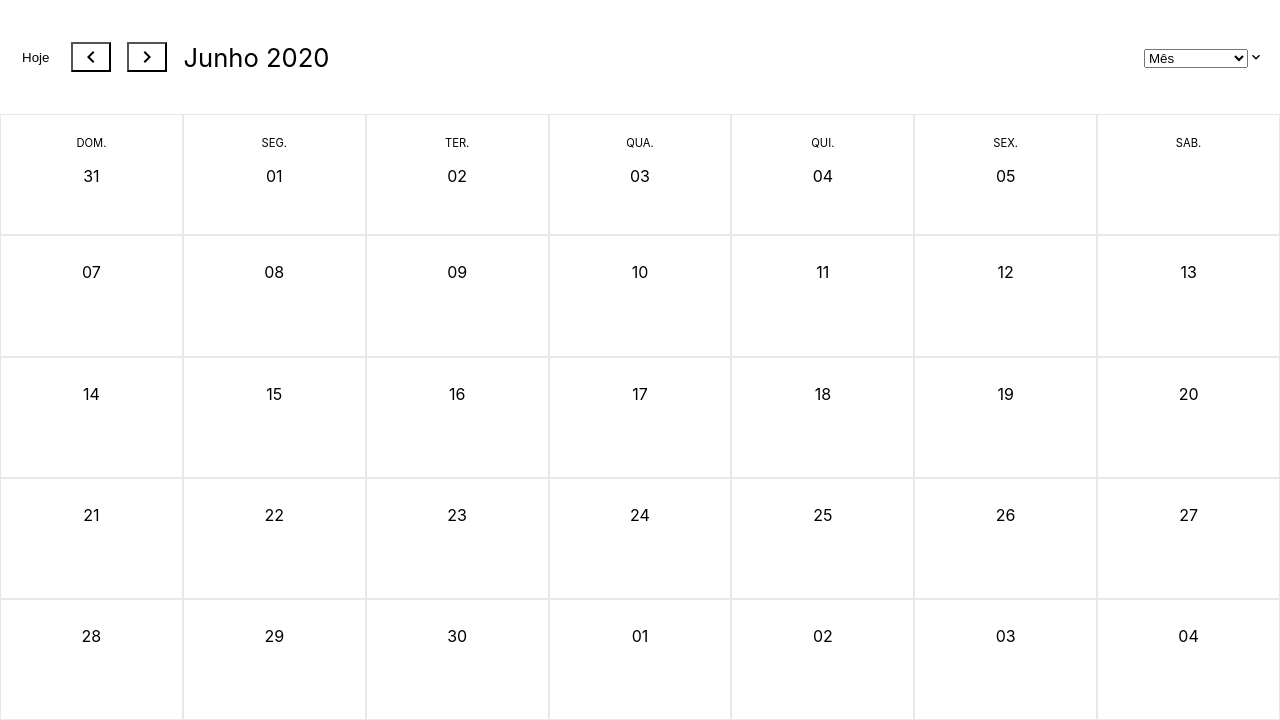
it: Calendar › Previous month button › changes the calendar to the next month when clicked
Expected: the text "maio 2020" is not shown
Click the button titled "Mês anterior" at (91, 57), box [71,42,111,72]
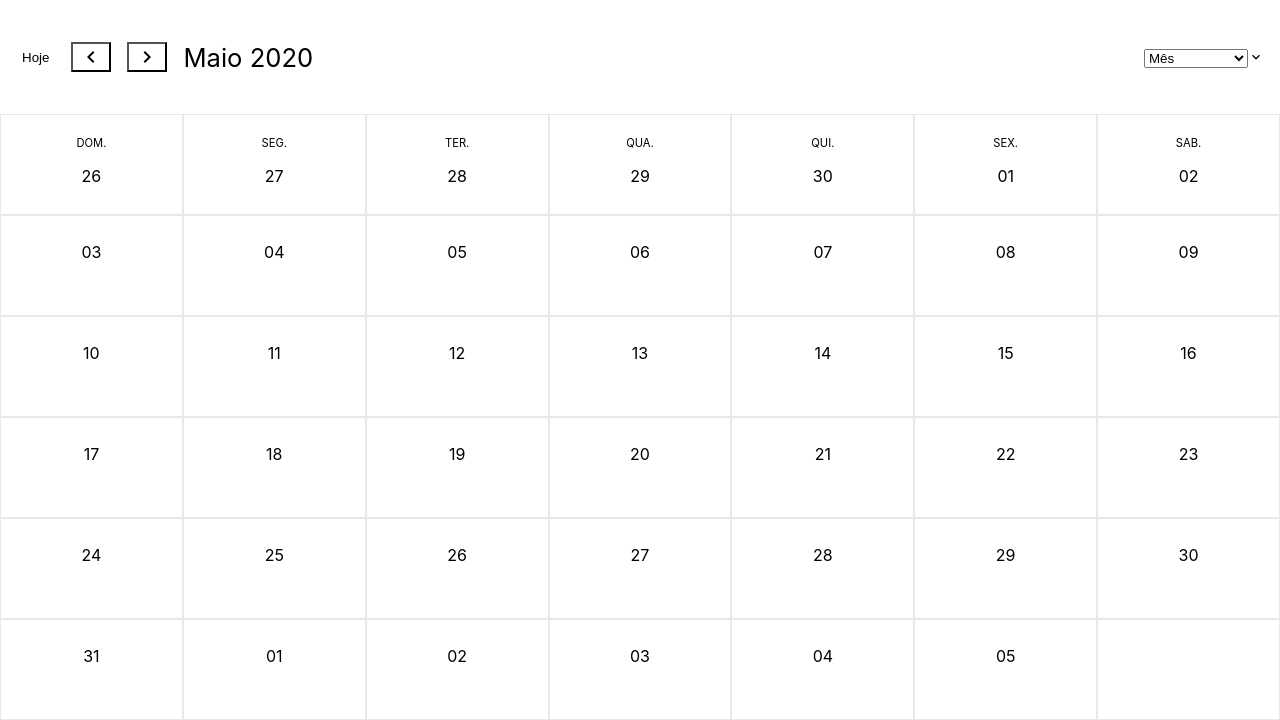
Now the text "maio 2020" is shown, box [183,42,313,73]
